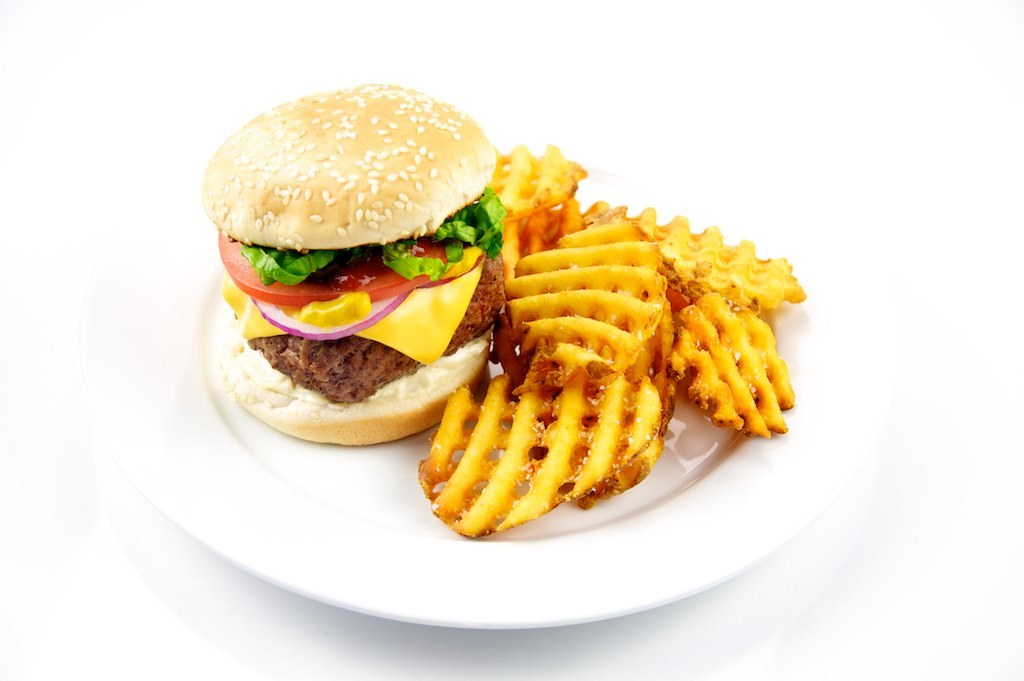Hamburger: (195, 81, 506, 447)
